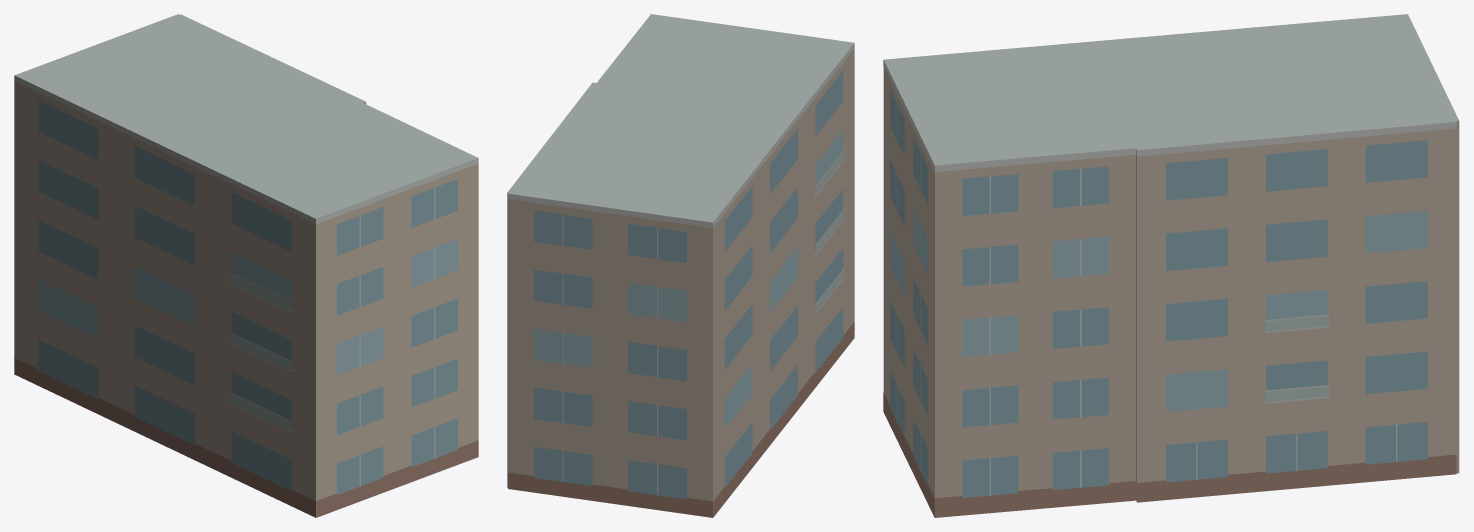
The model's file is survey-upis-32730223.glb.
3 views of the same model, side by side, from view 1: azimuth 30°, elevation 25°; view 2: azimuth 150°, elevation 25°; view 3: azimuth 270°, elevation 25° (orthographic). The views are drawn at different scales.
Parts seen in each view (by area): view 1: survey-upis-32730223.tmp; view 2: survey-upis-32730223.tmp; view 3: survey-upis-32730223.tmp.
Boxes of the visible parts, x1,y1,x2,y2 form: survey-upis-32730223.tmp: (14,14,478,517); survey-upis-32730223.tmp: (507,14,854,517); survey-upis-32730223.tmp: (883,14,1459,517).
Size of the model in its own units: 12.19 by 13.21 by 19.58.
